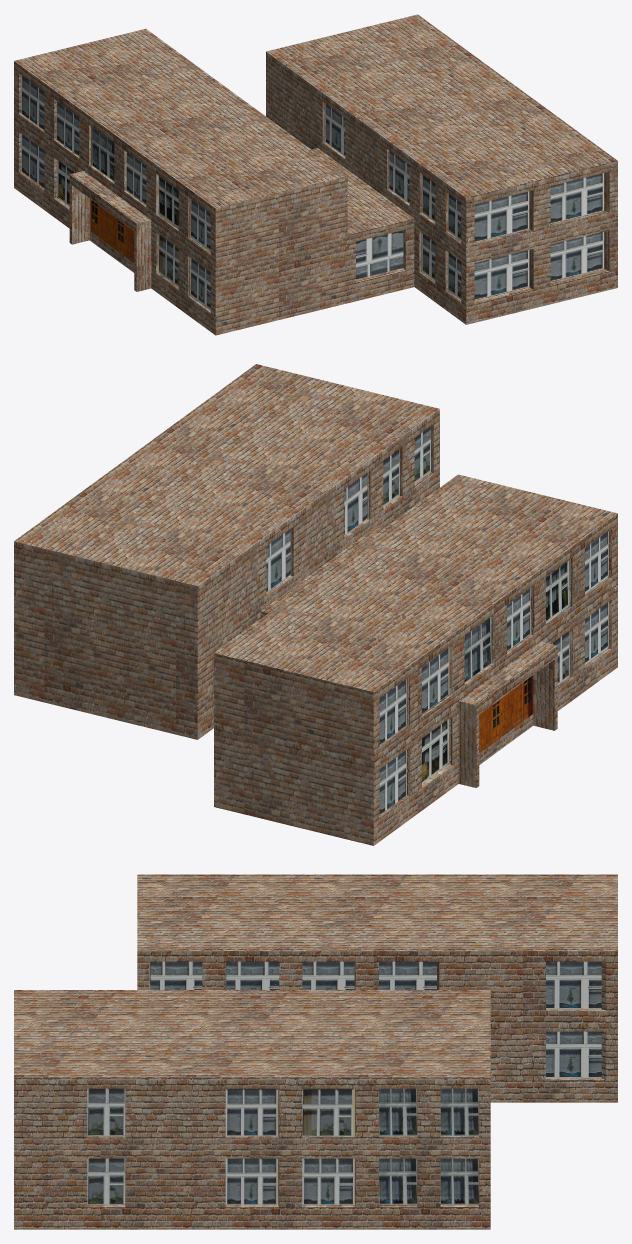
Rendered from scool.glb.
The picture shows the model from 3 angles, top to bottom: view 1: azimuth 30°, elevation 25°; view 2: azimuth 150°, elevation 25°; view 3: azimuth 270°, elevation 25°; orthographic projection. The views are drawn at different scales.
Visible parts, largest first — view 1: Куб; view 2: Куб; view 3: Куб.
Part boxes in pixels (bbox=[...]): Куб: bbox=[14, 14, 617, 335]; Куб: bbox=[14, 364, 617, 845]; Куб: bbox=[14, 874, 617, 1229].
Size of the model in its own units: 19.55 by 6.5 by 23.5.
Materials: 3 (3 with a texture image).
